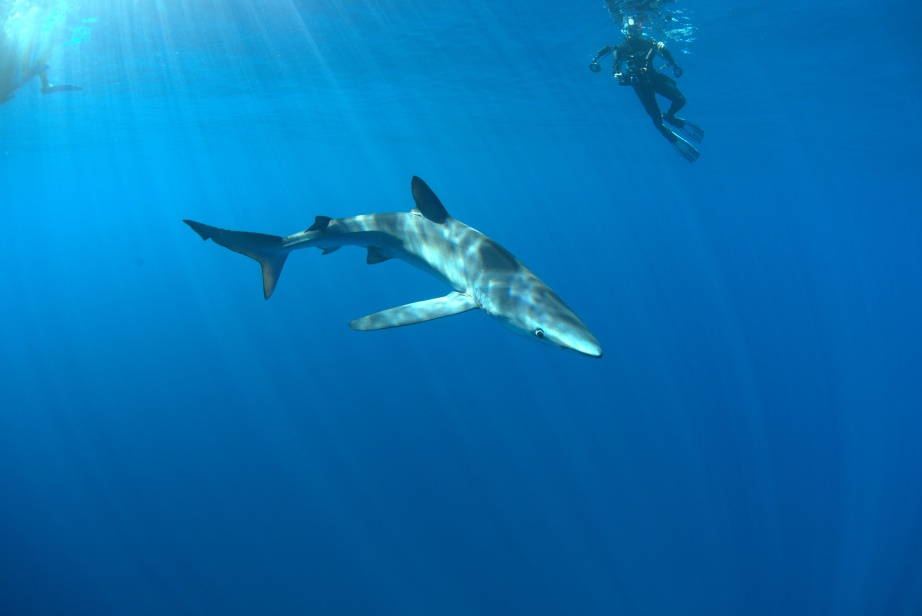Azul: (163, 157, 617, 370)
